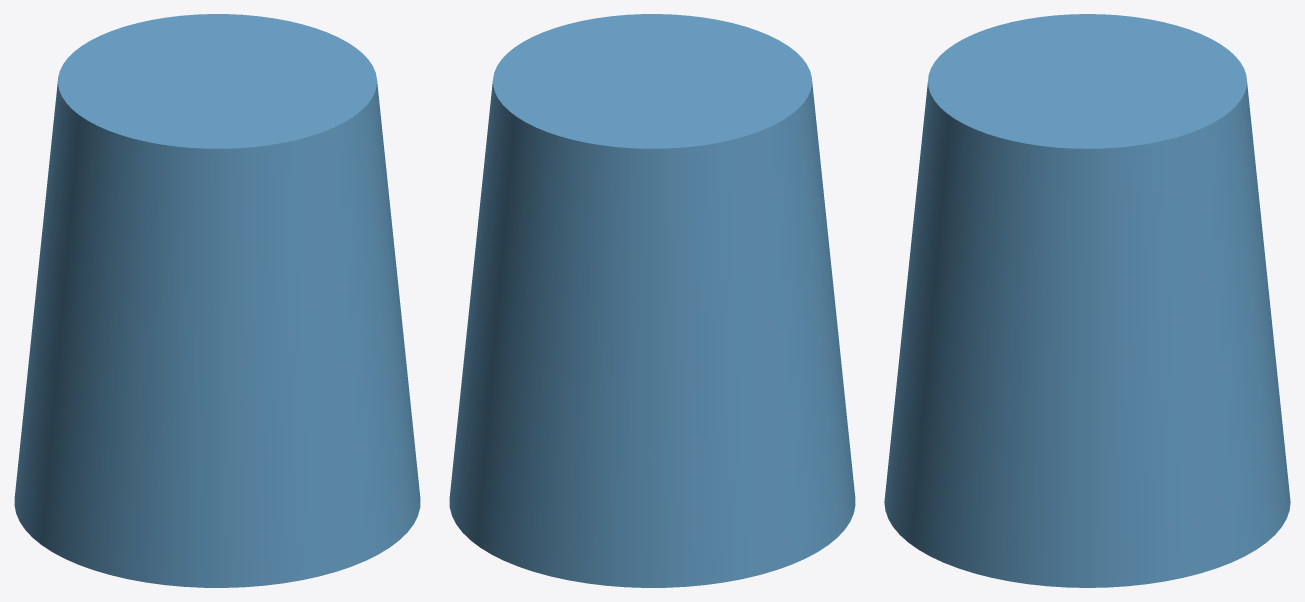
File: column-high.glb
3 renders of one model, left to right at view 1: azimuth 30°, elevation 25°; view 2: azimuth 150°, elevation 25°; view 3: azimuth 270°, elevation 25°, orthographic.
Size of the model in its own units: 1.4 by 1.6 by 1.4.
